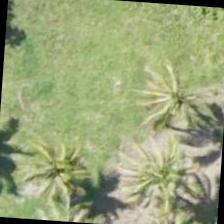Kelapa_Sawit: (23, 125, 119, 222), (123, 53, 219, 149), (126, 142, 223, 223)
